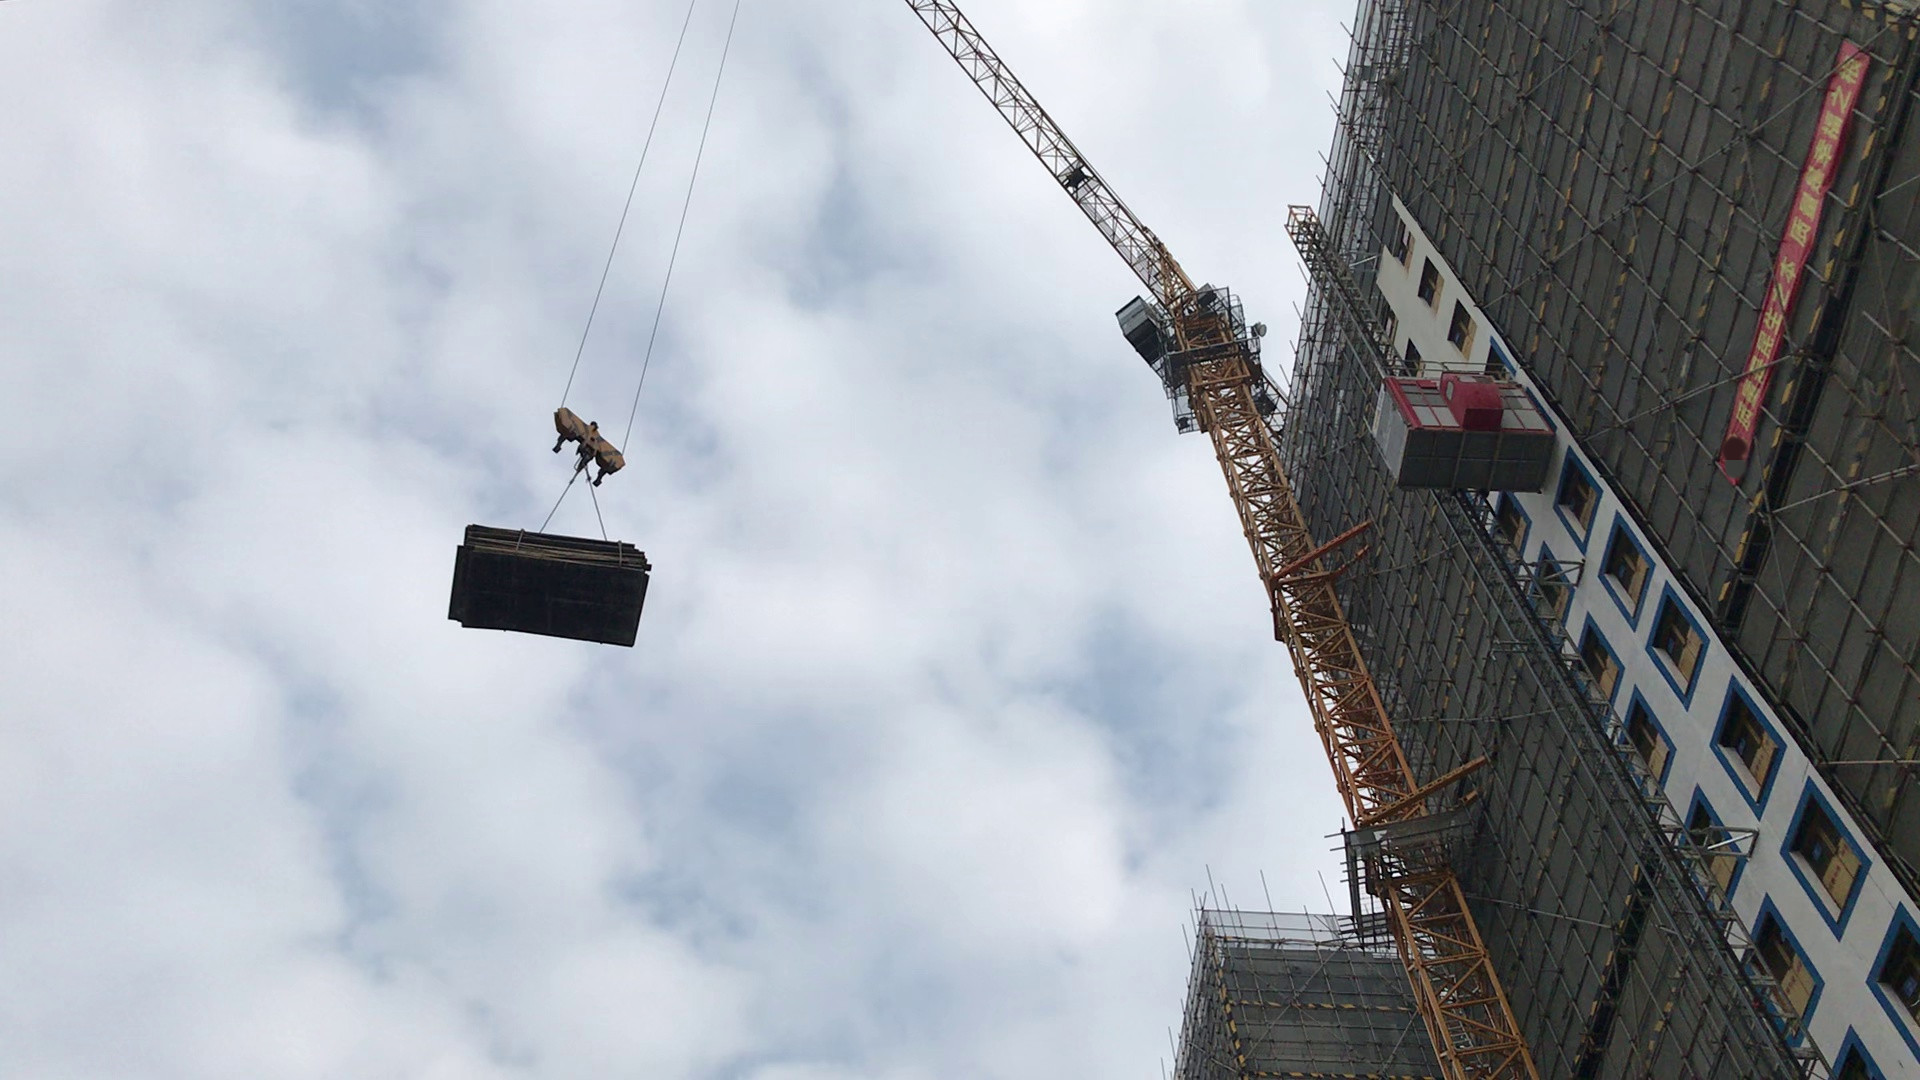board: (434, 520, 676, 665)
hook: (524, 388, 654, 502)
slogan: (1712, 36, 1880, 502)
